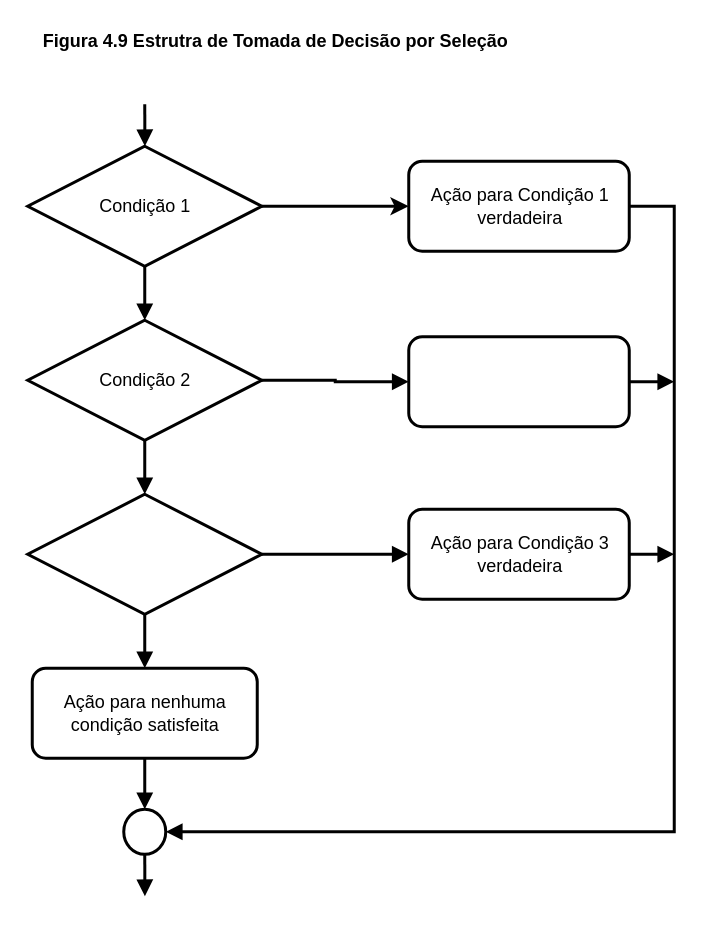
Some shapes in this 713 by 935 pixel diagram are drawn without their labels. Each missing label, with the centre of its shape:
"Ação para Condição 2 verdadeira" goes at pixel 518 381.
"Condição 3" goes at pixel 144 553.
